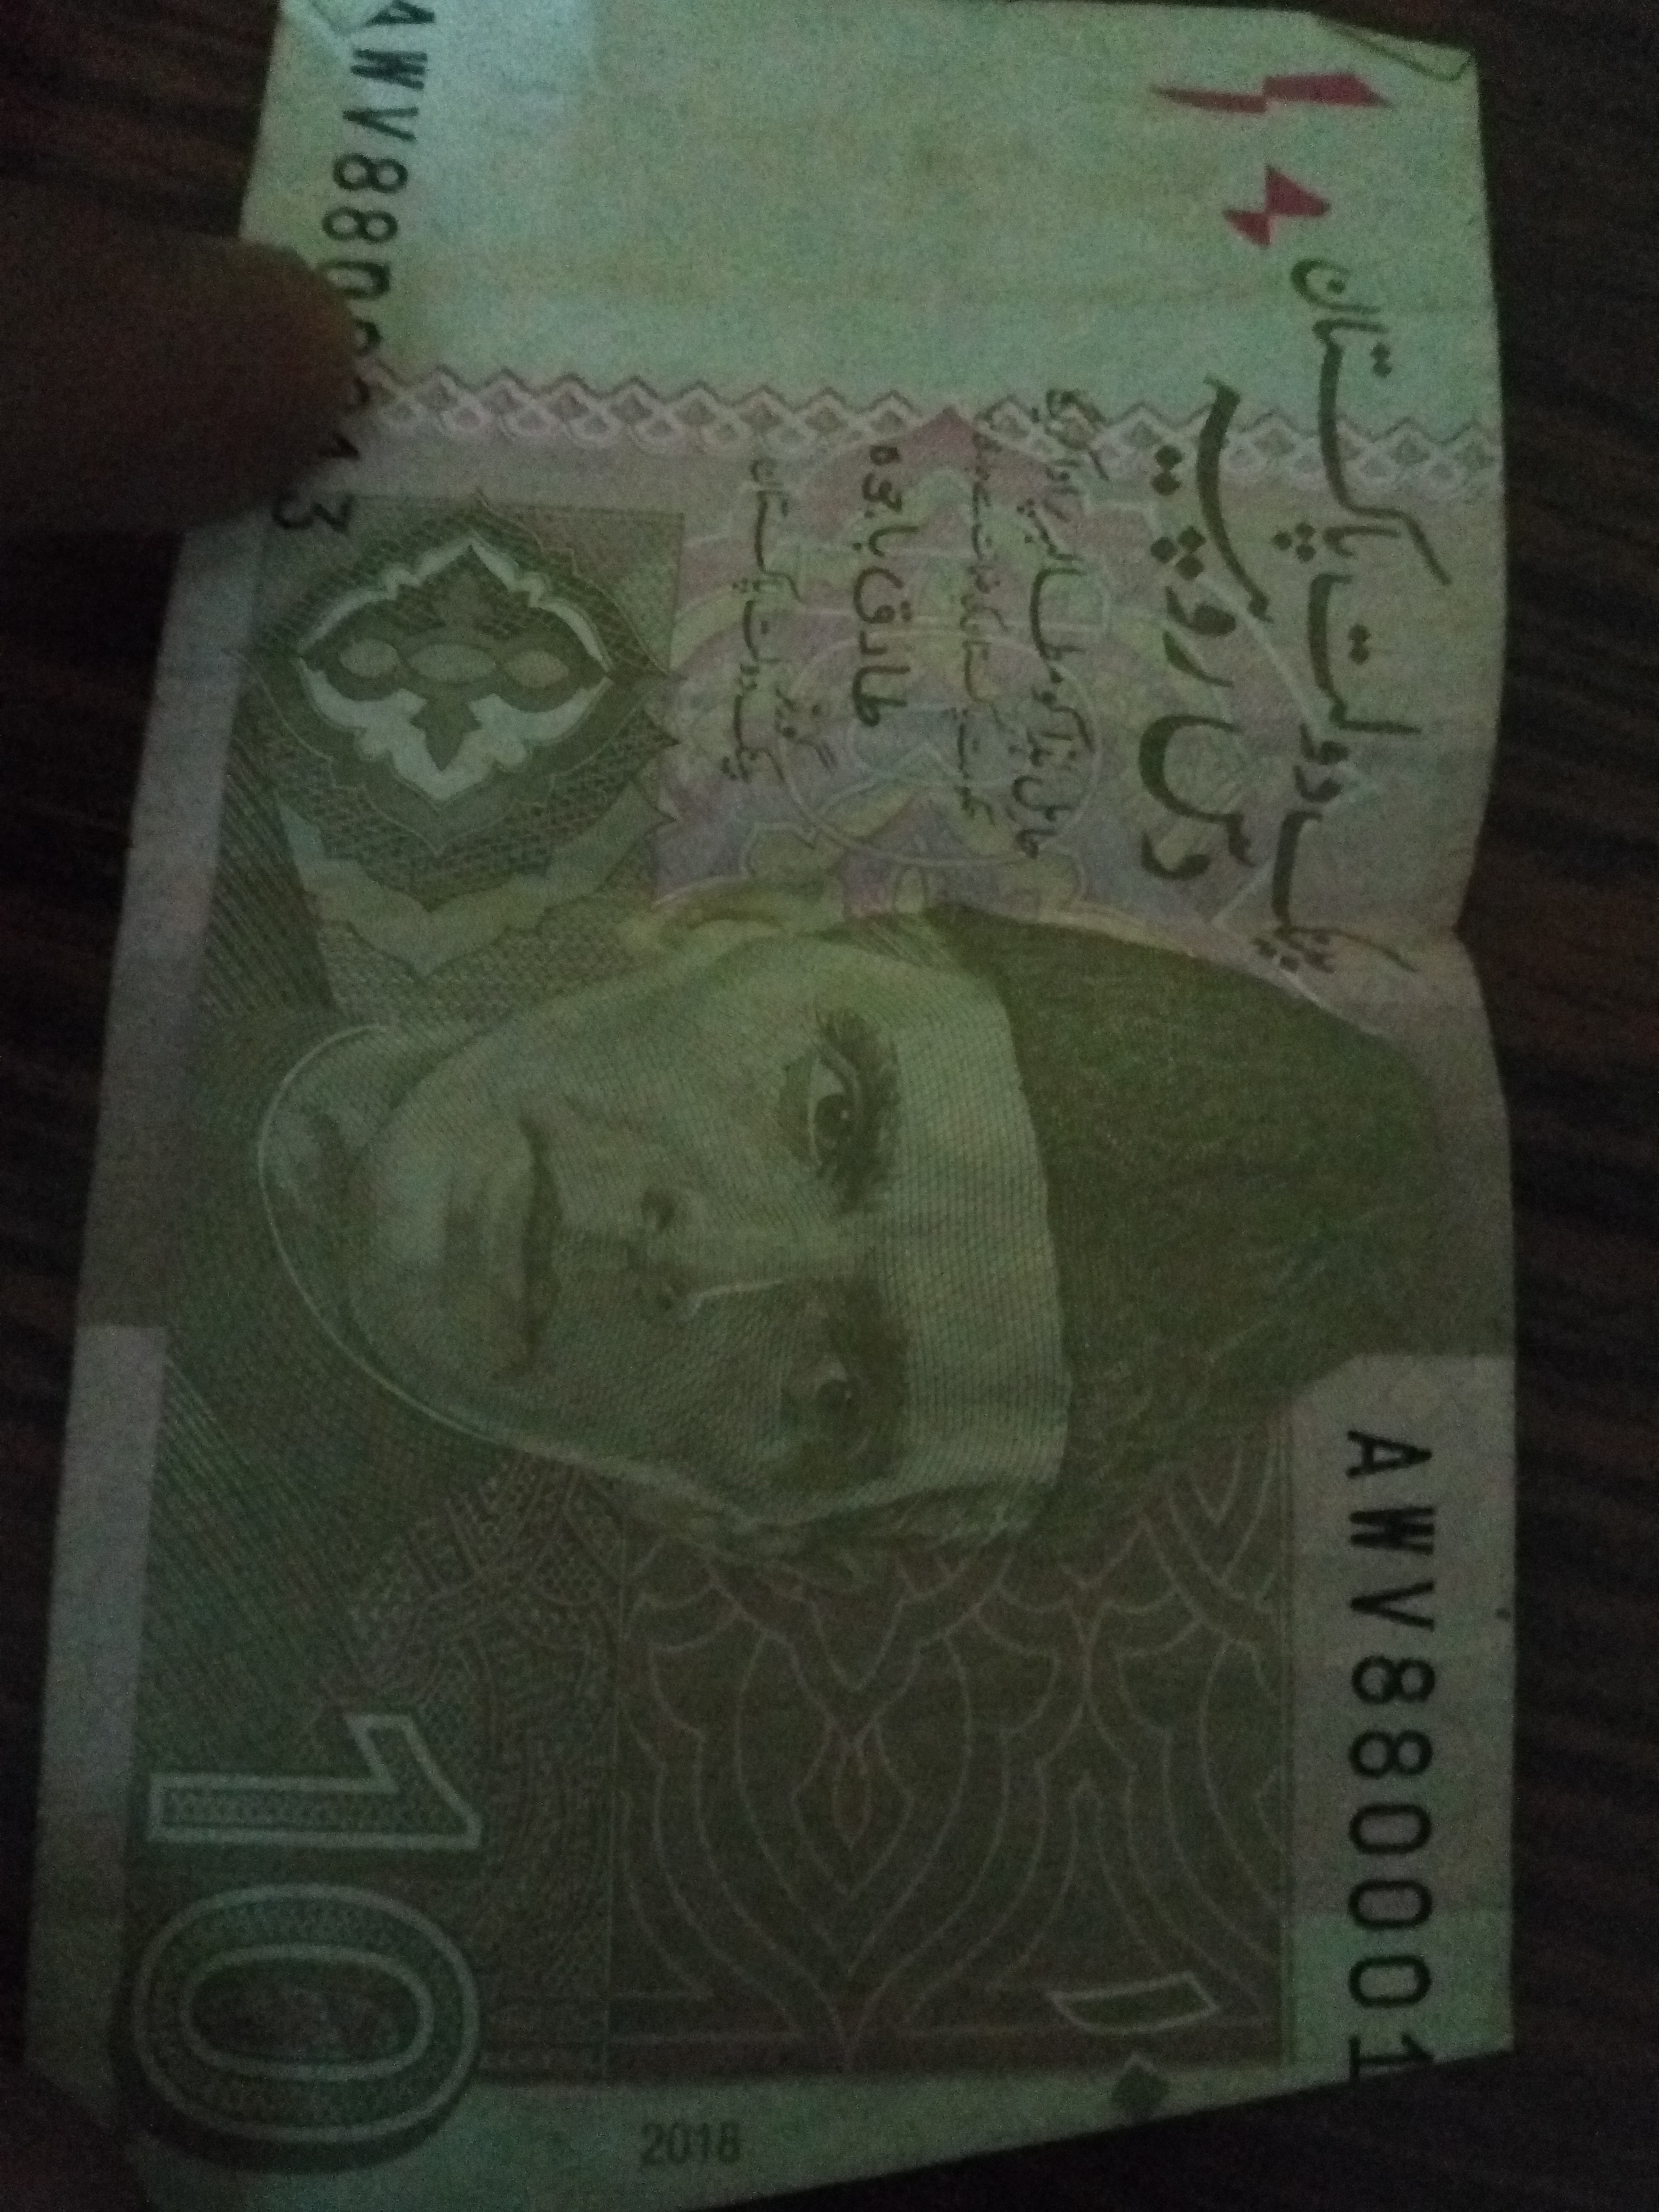10 rupee: (124, 23, 1560, 2118)
